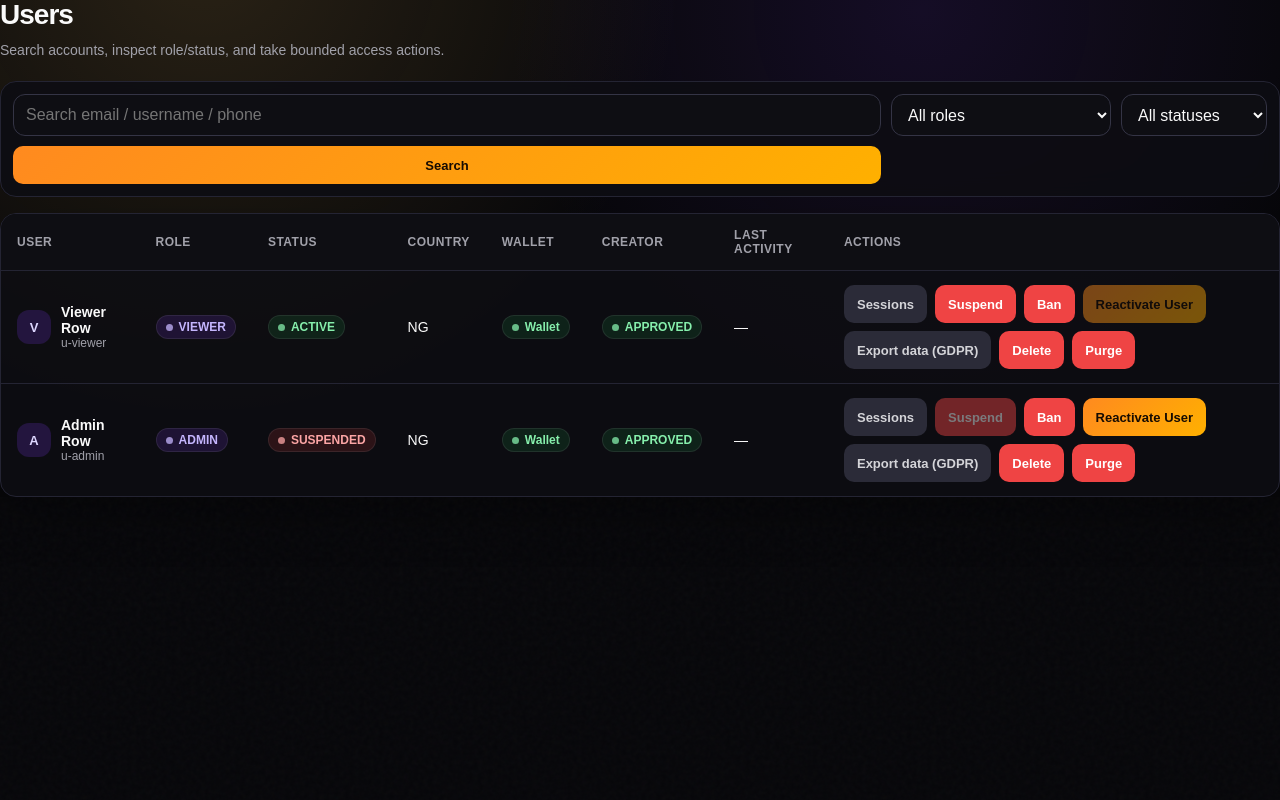
UsersPage › applies role and status filters
Expected: the text "Viewer Row" is shown, [61, 304, 106, 336]
Select "ADMIN" in the 1st dropdown at (1001, 115), box [891, 94, 1111, 136]
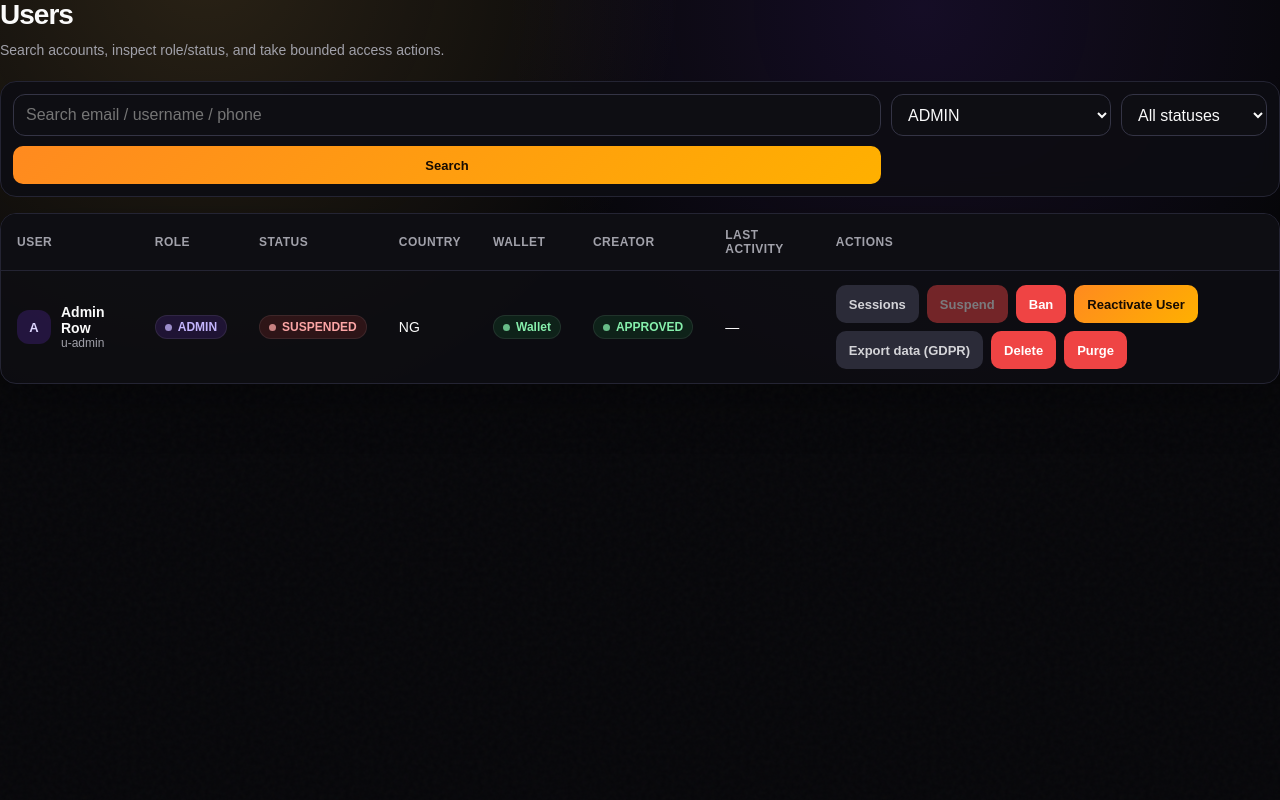
Expected: the text "Admin Row" is shown, [61, 304, 105, 336]
Now the text "Viewer Row" is gone
Select "SUSPENDED" in the 2nd dropdown at (1194, 115), box [1121, 94, 1267, 136]
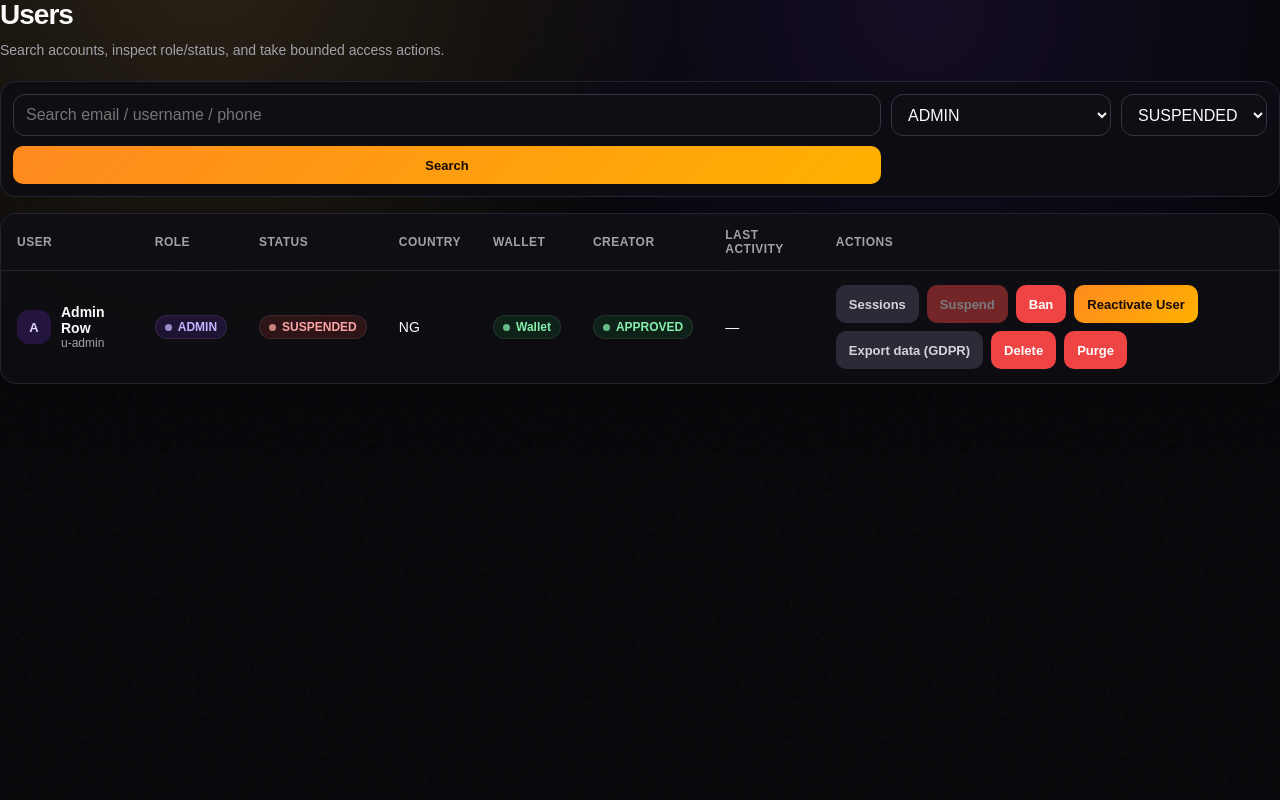
Expected: the text "Admin Row" is shown, [61, 304, 105, 336]
Select "BANNED" in the 2nd dropdown at (1194, 115), box [1121, 94, 1267, 136]
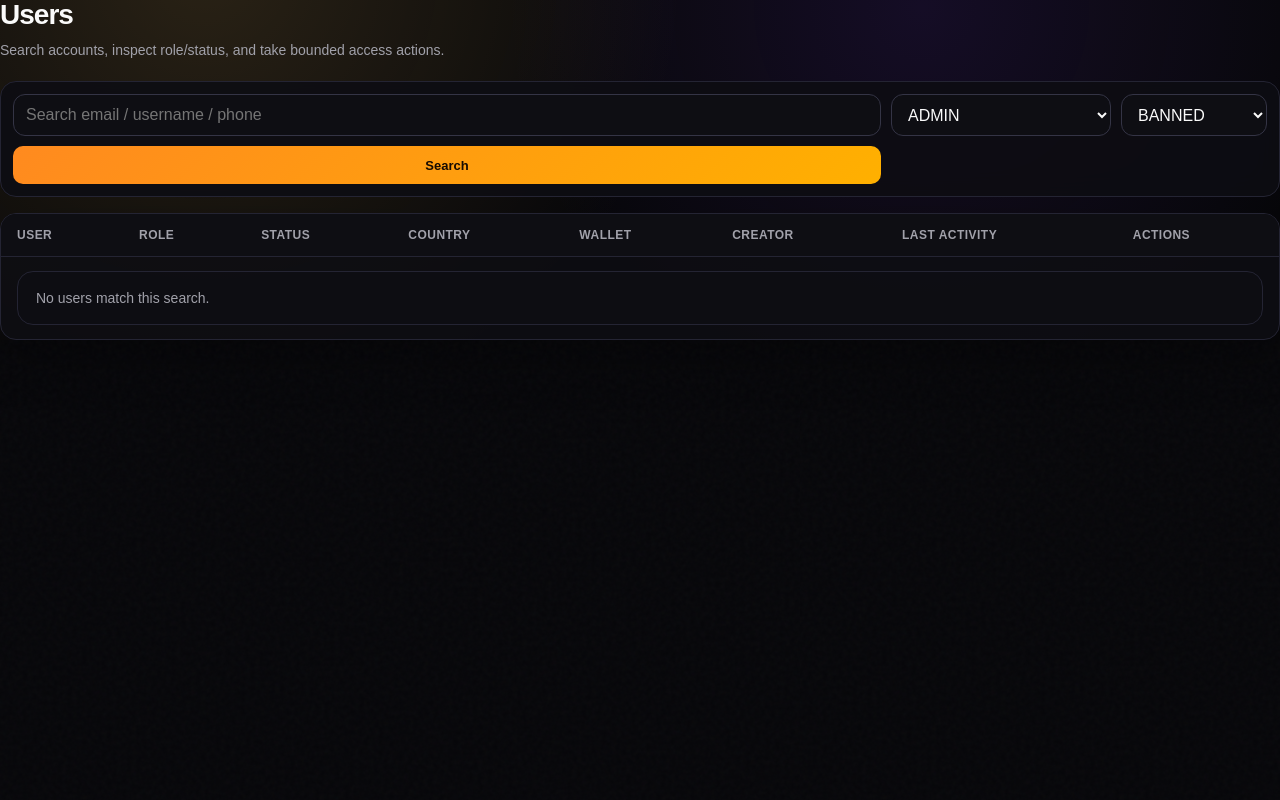
Now the text "Admin Row" is gone
